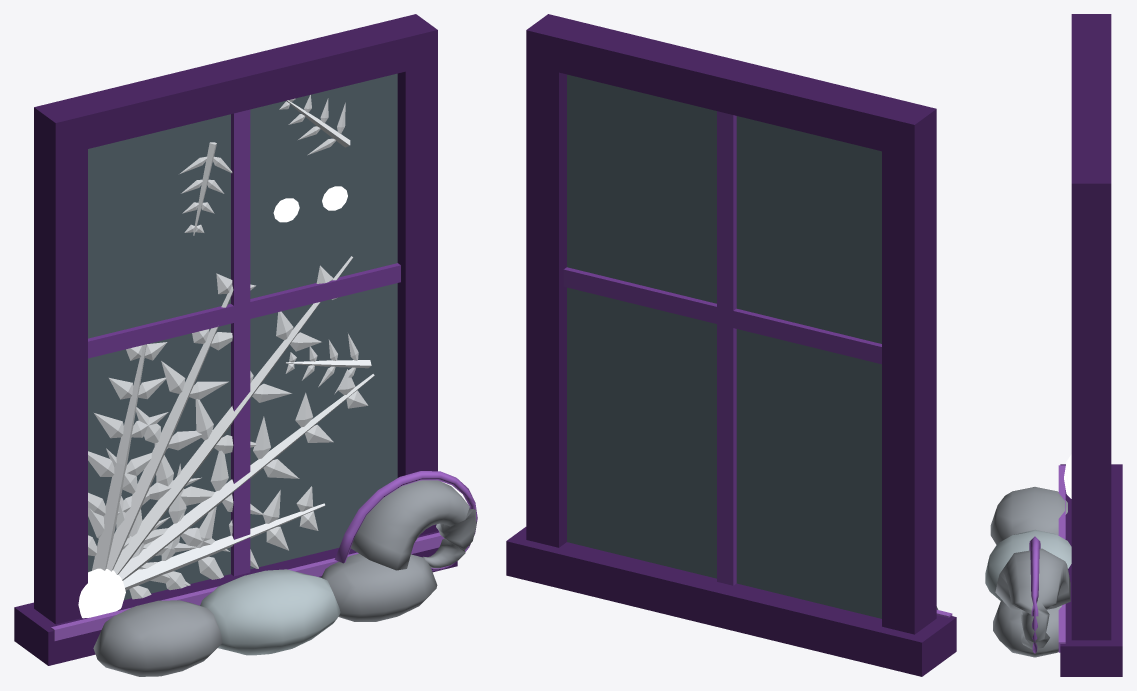
File: fog-hoar.glb
The picture shows the model from 3 angles, left to right: view 1: azimuth 30°, elevation 25°; view 2: azimuth 150°, elevation 25°; view 3: azimuth 270°, elevation 25°; orthographic projection. The views are drawn at different scales.
Visible parts, largest first — view 1: fog_hoar, pulse_fog, sway_curl_b, pulse_cold, blink_eyes; view 2: fog_hoar; view 3: fog_hoar, pulse_fog, sway_curl_b, pulse_cold.
Part boxes in pixels (box(x1,y1,x2,y2)): fog_hoar: box(14, 14, 457, 665); pulse_fog: box(93, 553, 437, 676); sway_curl_b: box(334, 471, 477, 570); pulse_cold: box(78, 568, 125, 618); blink_eyes: box(273, 186, 347, 222); fog_hoar: box(506, 14, 956, 676); fog_hoar: box(1058, 14, 1122, 676); pulse_fog: box(985, 487, 1071, 657); sway_curl_b: box(995, 536, 1070, 653); pulse_cold: box(1064, 454, 1071, 498).
Size of the model in its own units: 0.7715 by 0.9844 by 0.2428.
